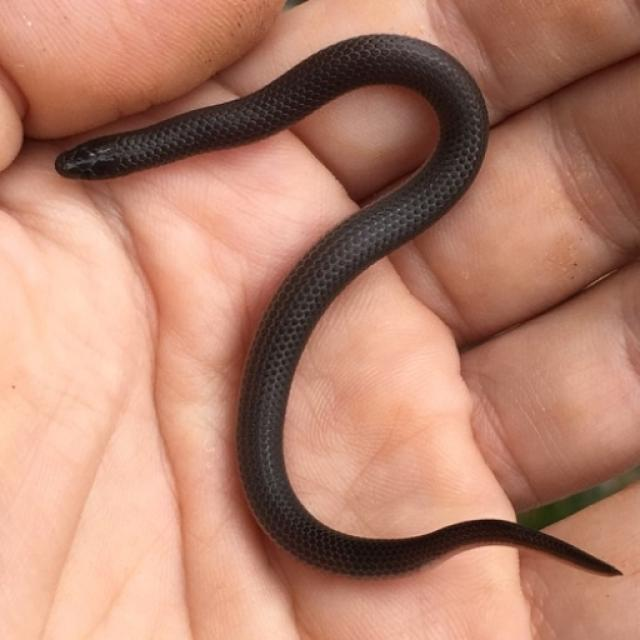snake: (56, 16, 624, 593)
